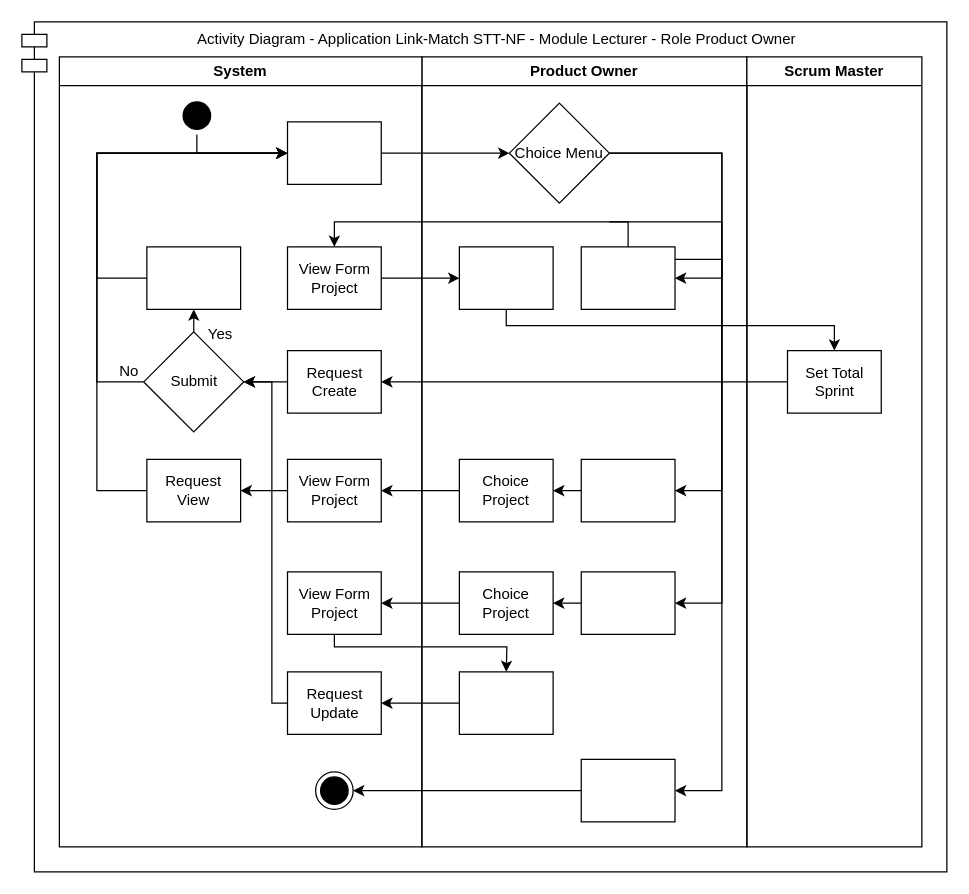
This 969x894 diagram has some shape labels left out. Here are the shapes that lost their labels. From the top down, the centre of each, then its label:
At point (333, 152): "Page Product Owner".
At point (193, 277): "Save".
At point (505, 277): "Fill Form Project".
At point (627, 277): "Request Proect".
At point (627, 490): "View Project".
At point (627, 602): "Edit Project".
At point (505, 702): "Fill Edit Form Project".
At point (627, 790): "Logout".
